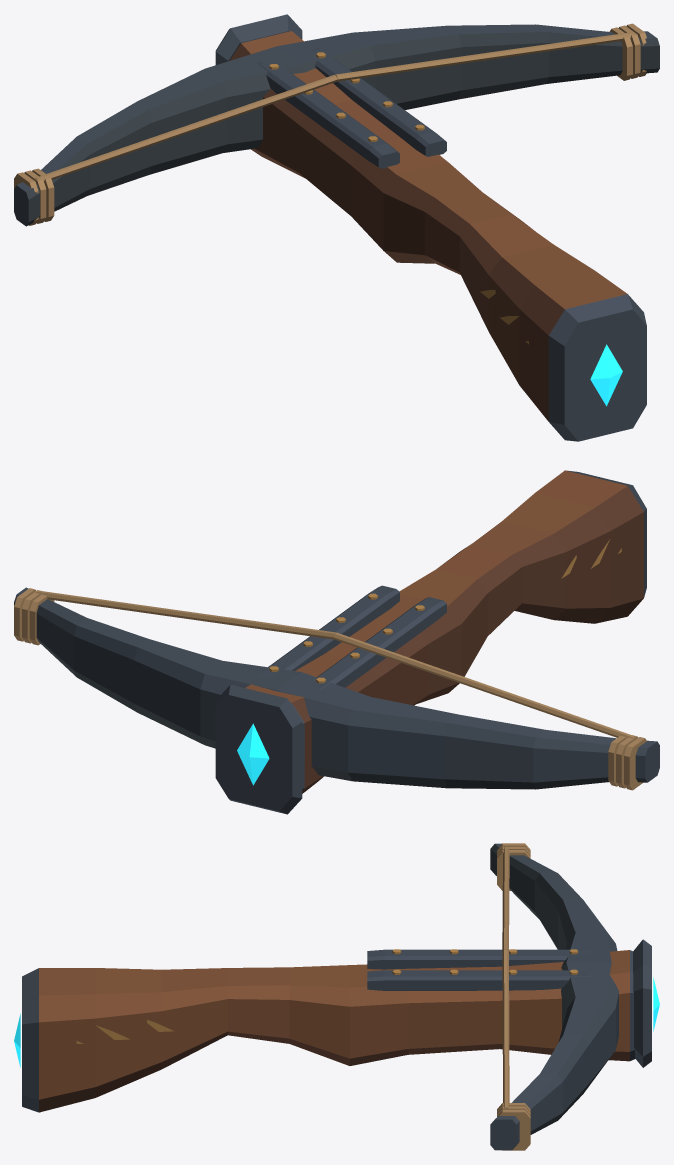
The model's file is wsc-gear-004-crossbow.glb.
3 renders of one model, top to bottom at view 1: azimuth 30°, elevation 25°; view 2: azimuth 150°, elevation 25°; view 3: azimuth 270°, elevation 25°, orthographic. The views are drawn at different scales.
Visible parts, largest first — view 1: WSC-GEAR-004 | Crossbow | Inventory; view 2: WSC-GEAR-004 | Crossbow | Inventory; view 3: WSC-GEAR-004 | Crossbow | Inventory.
Boxes of the visible parts, box(x1,y1,x2,y2) form: WSC-GEAR-004 | Crossbow | Inventory: box(14, 14, 659, 441); WSC-GEAR-004 | Crossbow | Inventory: box(14, 470, 659, 814); WSC-GEAR-004 | Crossbow | Inventory: box(14, 843, 659, 1150).
Size of the model in its own units: 0.888 by 0.2239 by 0.879.
